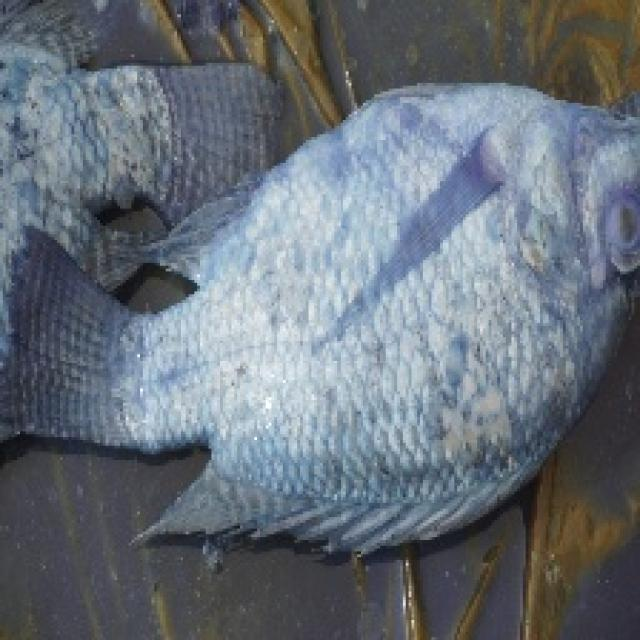Non-Fresh: (204, 125, 640, 460), (575, 172, 640, 269)
